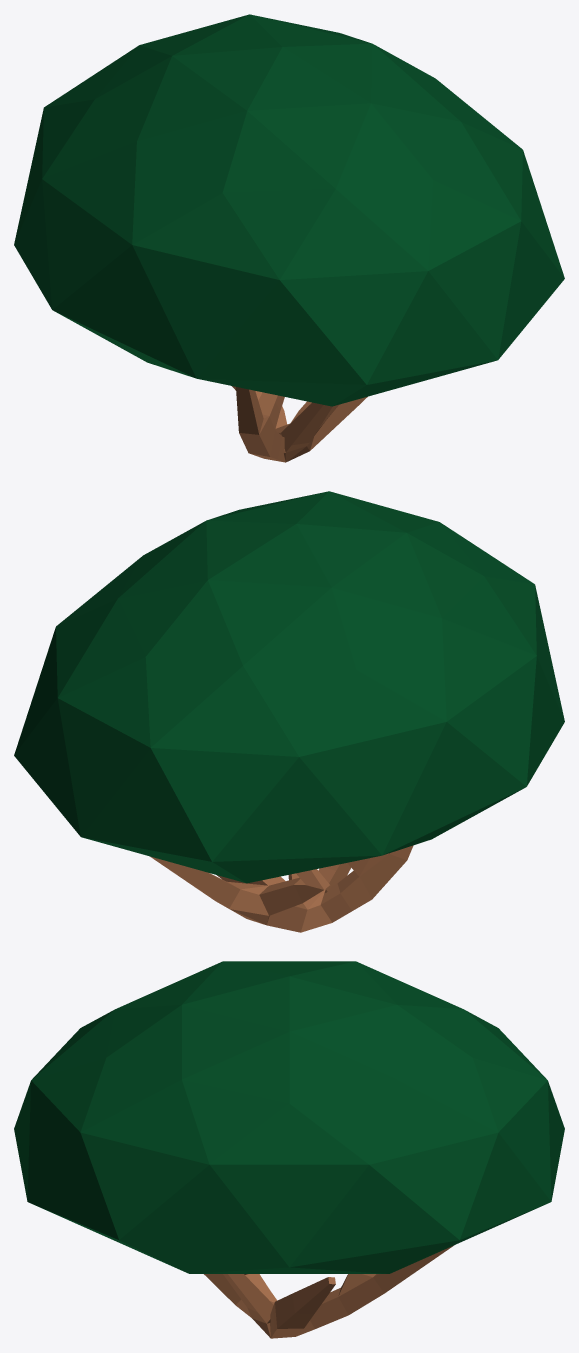
The model's file is Arbol Manzana Fase 2.fbx.
3 views of the same model, one above another, from view 1: azimuth 30°, elevation 25°; view 2: azimuth 150°, elevation 25°; view 3: azimuth 270°, elevation 25° (orthographic). The views are drawn at different scales.
Parts seen in each view (by area): view 1: Icosphere.001, Vert.002; view 2: Icosphere.001, Vert.002; view 3: Icosphere.001, Vert.002.
Boxes of the visible parts, x1=… form: Icosphere.001: x1=14, y1=14, x2=564, y2=406; Vert.002: x1=232, y1=386, x2=367, y2=462; Icosphere.001: x1=14, y1=491, x2=564, y2=883; Vert.002: x1=150, y1=845, x2=413, y2=932; Icosphere.001: x1=14, y1=961, x2=564, y2=1273; Vert.002: x1=204, y1=1245, x2=454, y2=1338.
Bounding box in the file's own units: 170 × 145 × 204.
